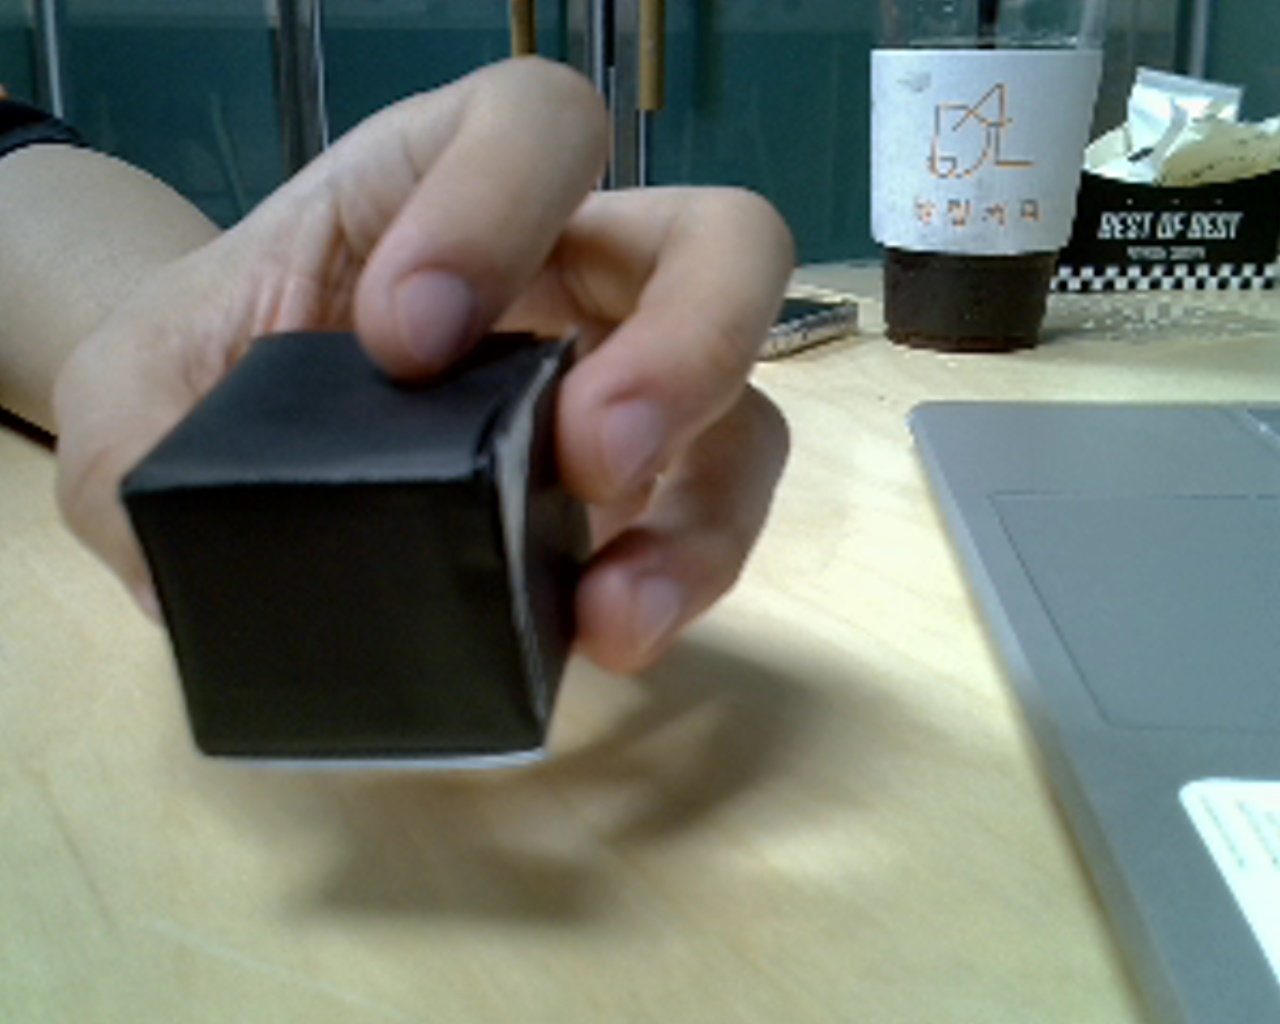blackbox: (87, 258, 681, 832)
